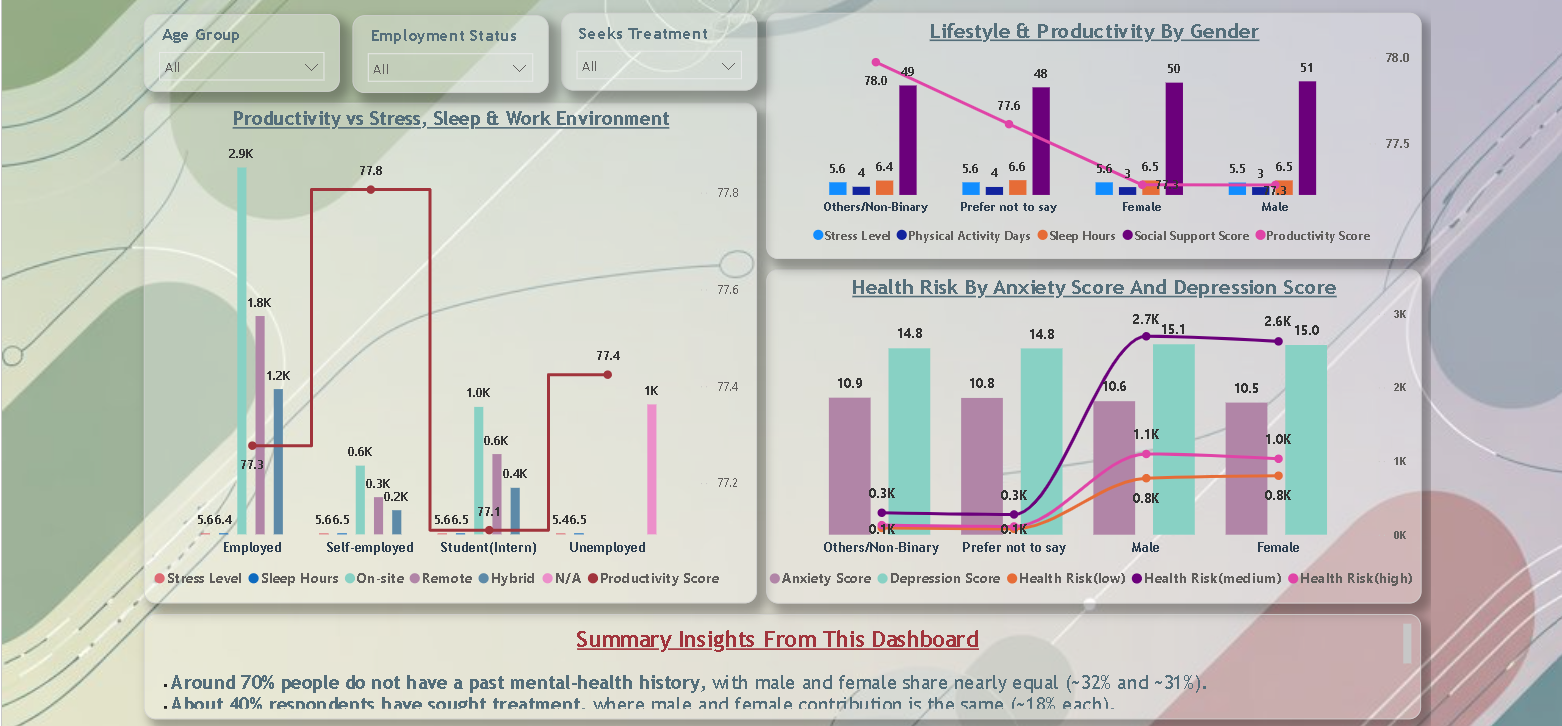

This screenshot's page, from the dashboard's own definition file:
{"tool":"powerbi","page":{"name":"Productivity And Mental Health Insight","canvas":[1280,720],"ordinal":2},"visuals":[{"type":"lineClusteredColumnComboChart","title":"Productivity vs Stress, Sleep & Work Environment","fields":{"Y":["Avg(mental_health_dataset.stress_level)","Avg(mental_health_dataset.sleep_hours)","Measure Table.Work Environment (on-site)","Measure Table.Work Environment (remote)","Measure Table.Work Environment (ybrid)","Measure Table.Work Environment (Not-applicable)"],"Y2":["Avg(mental_health_dataset.productivity_score)"],"Category":["mental_health_dataset.employment_status_updated"]},"box":[8.6,102.7,605.3,494],"z":0},{"type":"lineClusteredColumnComboChart","title":"Health Risk By Anxiety Score And Depression Score","fields":{"Category":["mental_health_dataset.gender"],"Y":["Avg(mental_health_dataset.anxiety_score)","Avg(mental_health_dataset.depression_score)"],"Y2":["Measure Table.count of mental health risk (low)","Measure Table.count of mental health risk (medium)","Measure Table.count of mental health risk (high)"]},"box":[623.6,266.6,646.9,330.2],"z":1000},{"type":"lineClusteredColumnComboChart","title":"Lifestyle & Productivity By Gender","fields":{"Category":["mental_health_dataset.gender"],"Y":["Avg(mental_health_dataset.stress_level)","Avg(mental_health_dataset.physical_activity_days)","Avg(mental_health_dataset.sleep_hours)","Avg(mental_health_dataset.social_support_score)"],"Y2":["Avg(mental_health_dataset.productivity_score)"]},"box":[623.6,13.5,646.9,243.3],"z":2000},{"type":"slicer","fields":{"Values":["mental_health_dataset.Age Group"]},"box":[8.6,14.7,193.2,77],"z":3000},{"type":"slicer","fields":{"Values":["mental_health_dataset.seeks_treatment"]},"box":[420.7,13.5,193.2,77],"z":4000},{"type":"slicer","fields":{"Values":["mental_health_dataset.employment_status_updated"]},"box":[215.2,15.9,193.2,77],"z":5000},{"type":"textbox","box":[8.6,607.7,1262,103.9],"z":6000}]}

Visuals, with their boxes on the page's 1280x720 design canvas (x1, y1, x2, y2). These are canvas units, not pixel positions in the 1562x726 screenshot, which may show the page scaled, cropped or inside an application window:
"Productivity vs Stress, Sleep & Work Environment" lineClusteredColumnComboChart: [x1=9, y1=103, x2=614, y2=597]
"Health Risk By Anxiety Score And Depression Score" lineClusteredColumnComboChart: [x1=624, y1=267, x2=1270, y2=597]
"Lifestyle & Productivity By Gender" lineClusteredColumnComboChart: [x1=624, y1=14, x2=1270, y2=257]
slicer - mental_health_dataset.Age Group: [x1=9, y1=15, x2=202, y2=92]
slicer - mental_health_dataset.seeks_treatment: [x1=421, y1=14, x2=614, y2=90]
slicer - mental_health_dataset.employment_status_updated: [x1=215, y1=16, x2=408, y2=93]
textbox: [x1=9, y1=608, x2=1271, y2=712]
